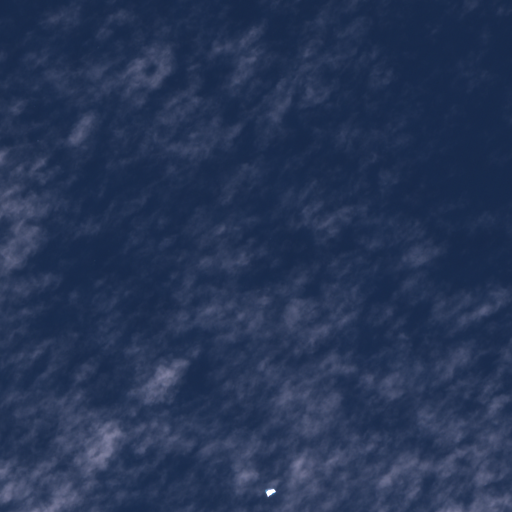Iceberg: (265, 488, 275, 497)
